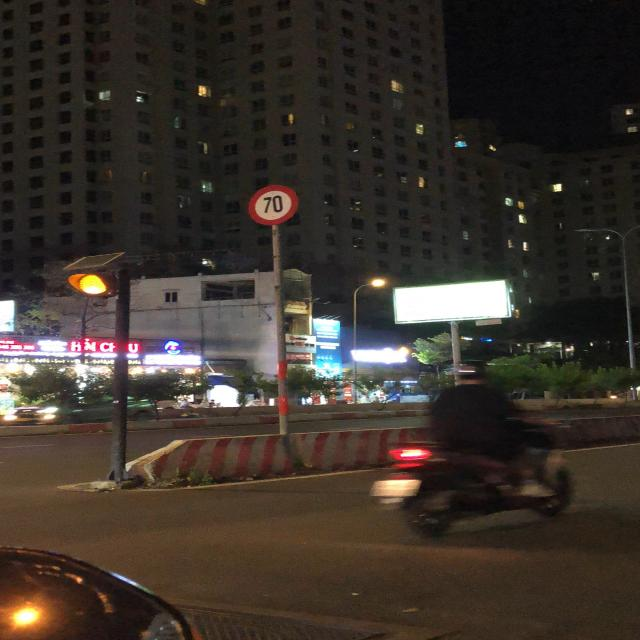Bien bao toc do toi da cho phep: (240, 181, 309, 228)
